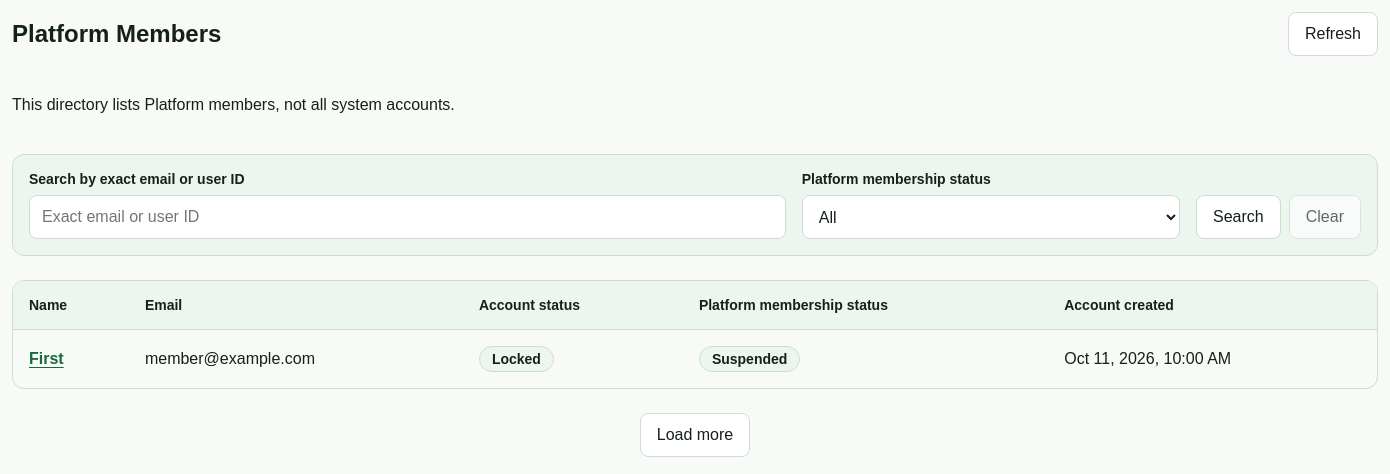
Test case: Platform member directory › duplicate continuation fails closed
The width and height of the screenshot is (1390, 474).
Expected: the link "First" is shown, [29, 350, 64, 367]
Click the button "Load more".
click(695, 435)  # box [640, 413, 750, 457]
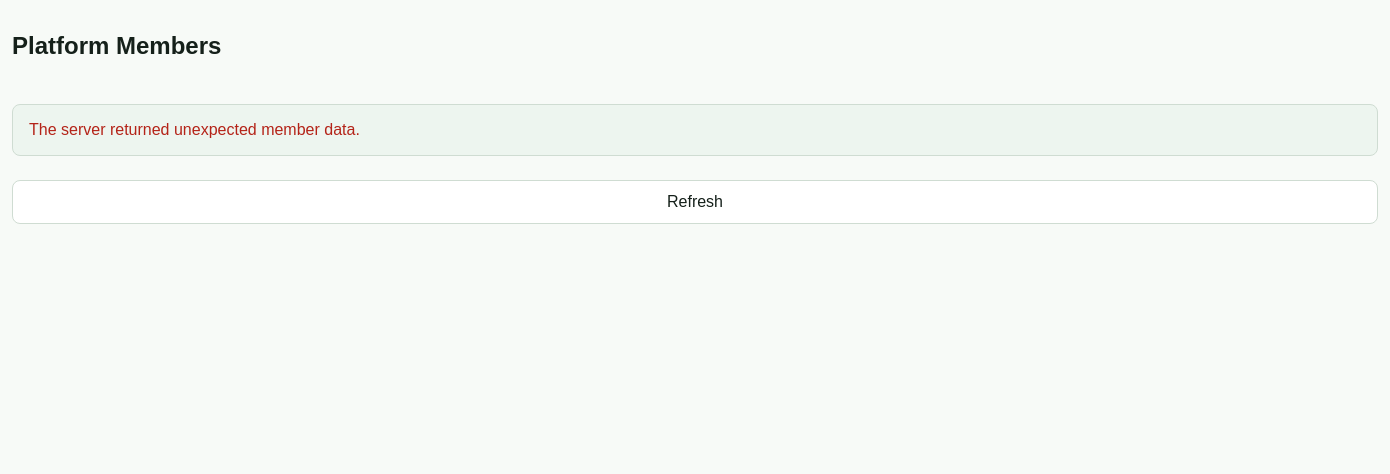
Expected: the text "The server returned unexpected member data." is shown, [12, 104, 1378, 156]
Expected: the link "First" is gone
